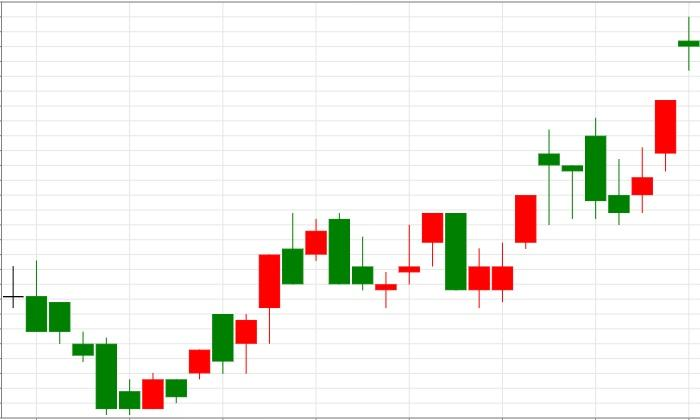bearish_engulfing_fall: (142, 212, 350, 409), (375, 213, 466, 308)
